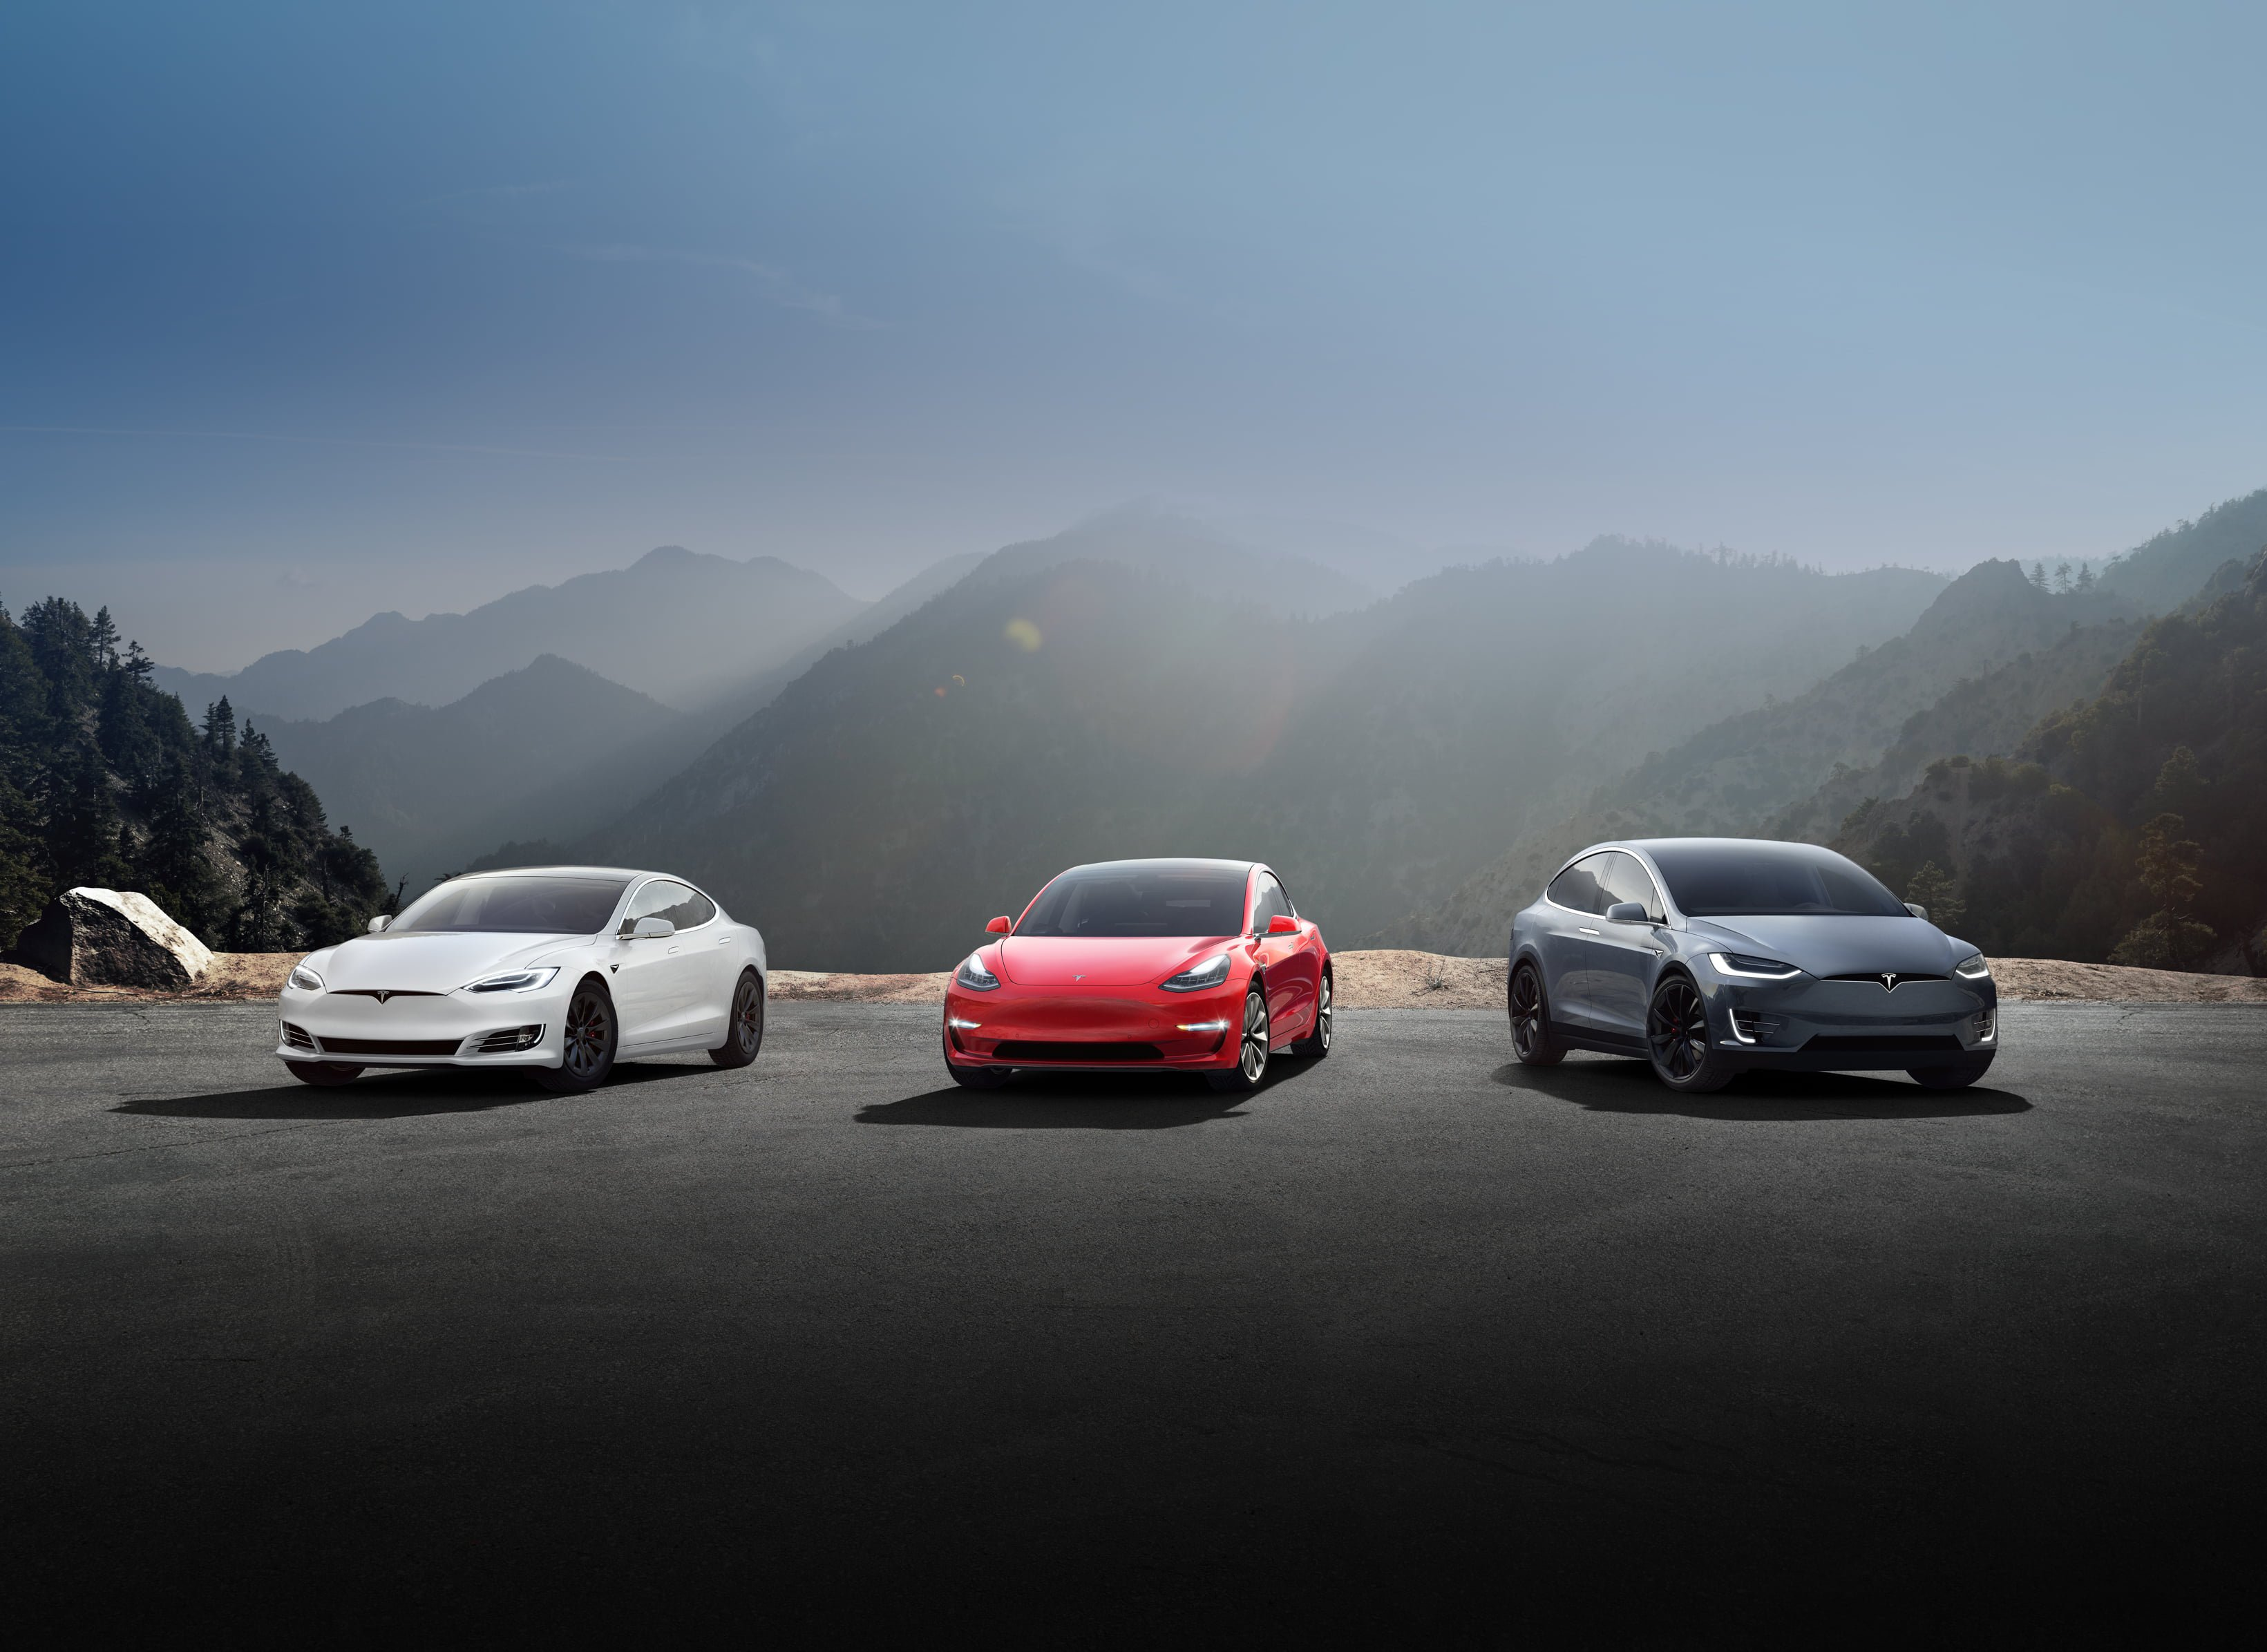car: (1508, 816, 2017, 1112), (287, 837, 771, 1093), (940, 808, 1338, 1098)
